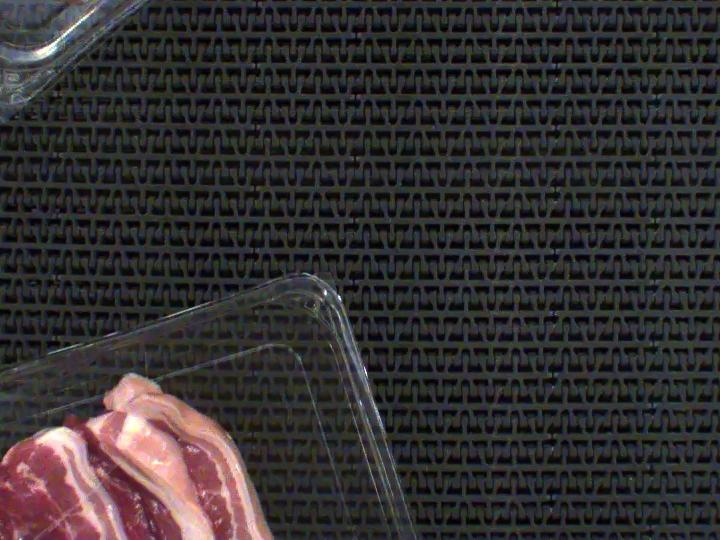packaging-error: (0, 437, 160, 540)
